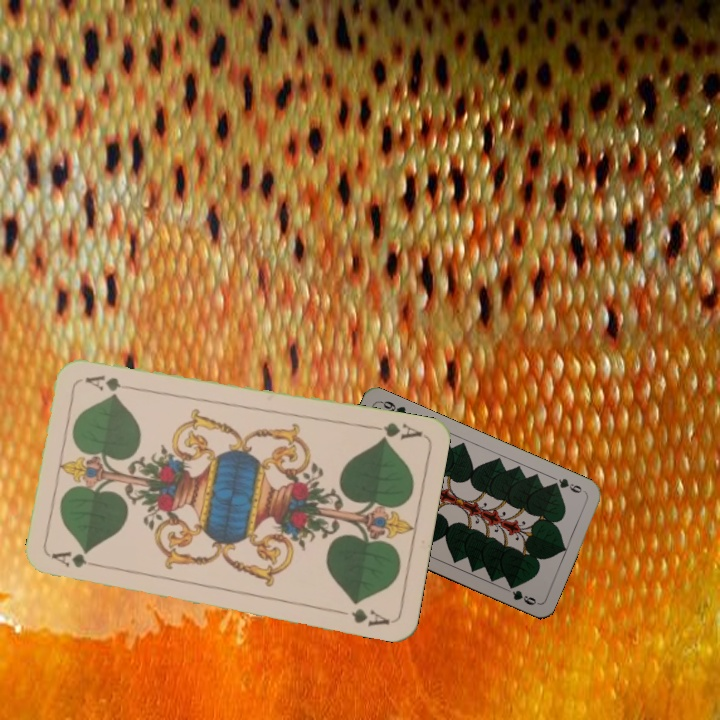G9: (547, 474, 584, 496)
GA: (366, 418, 425, 444), (48, 548, 107, 570)
